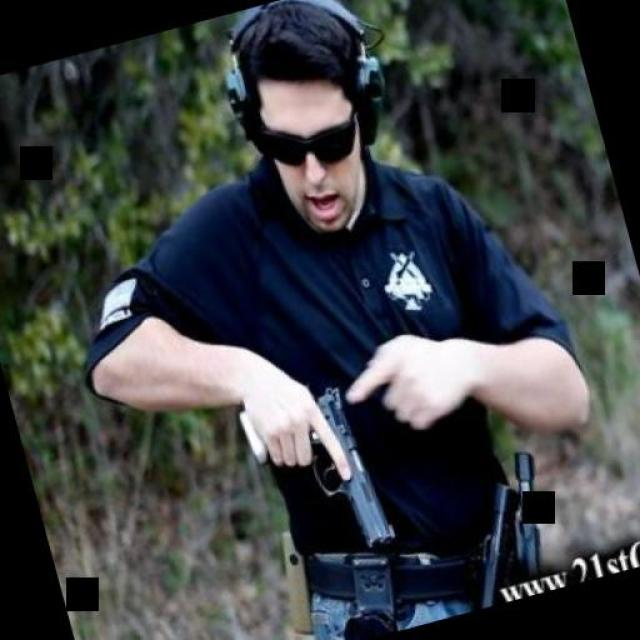gun: (234, 375, 400, 573)
